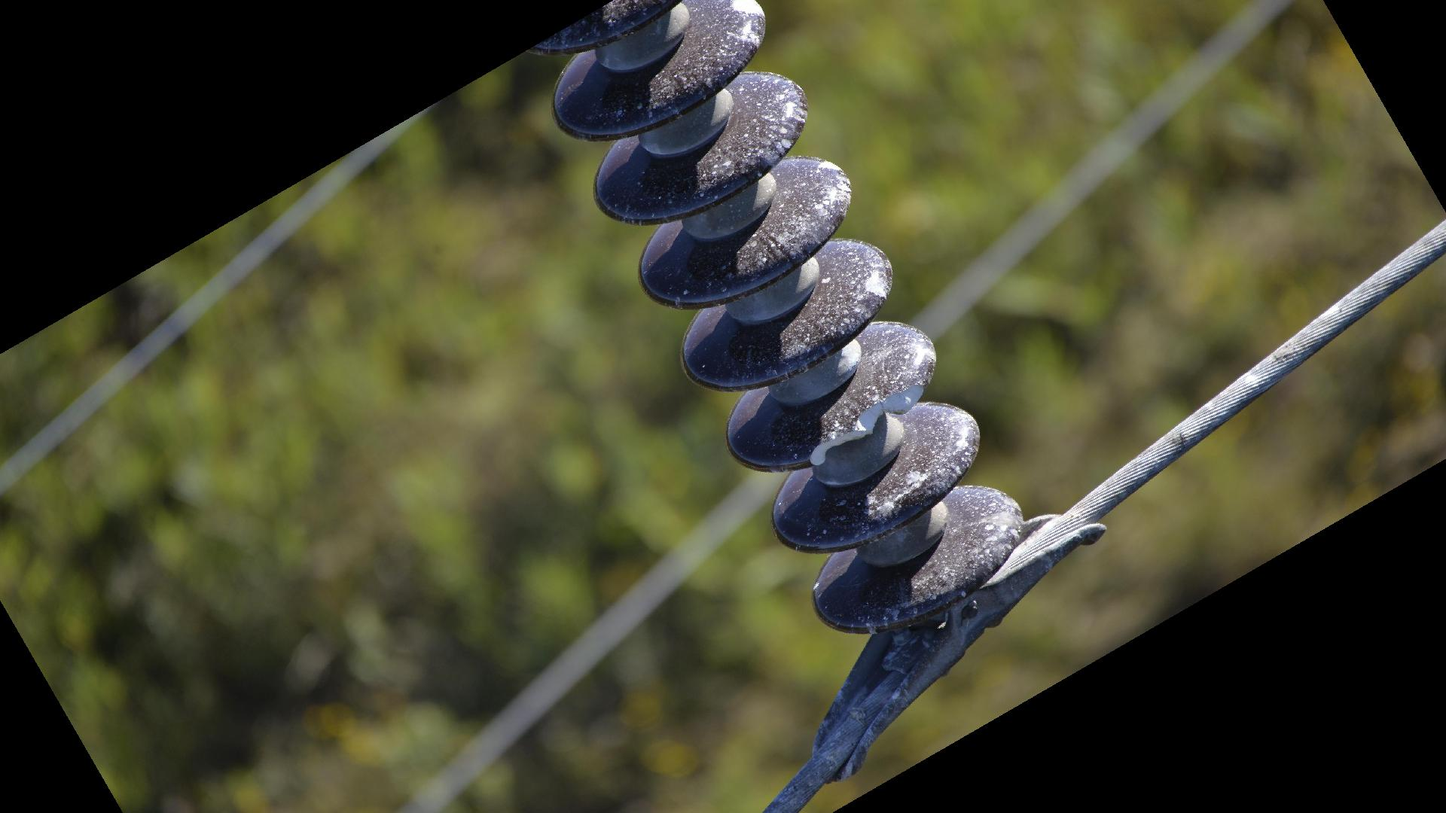insulator: (520, 1, 1033, 642)
insulator_breakage: (803, 367, 934, 472)
